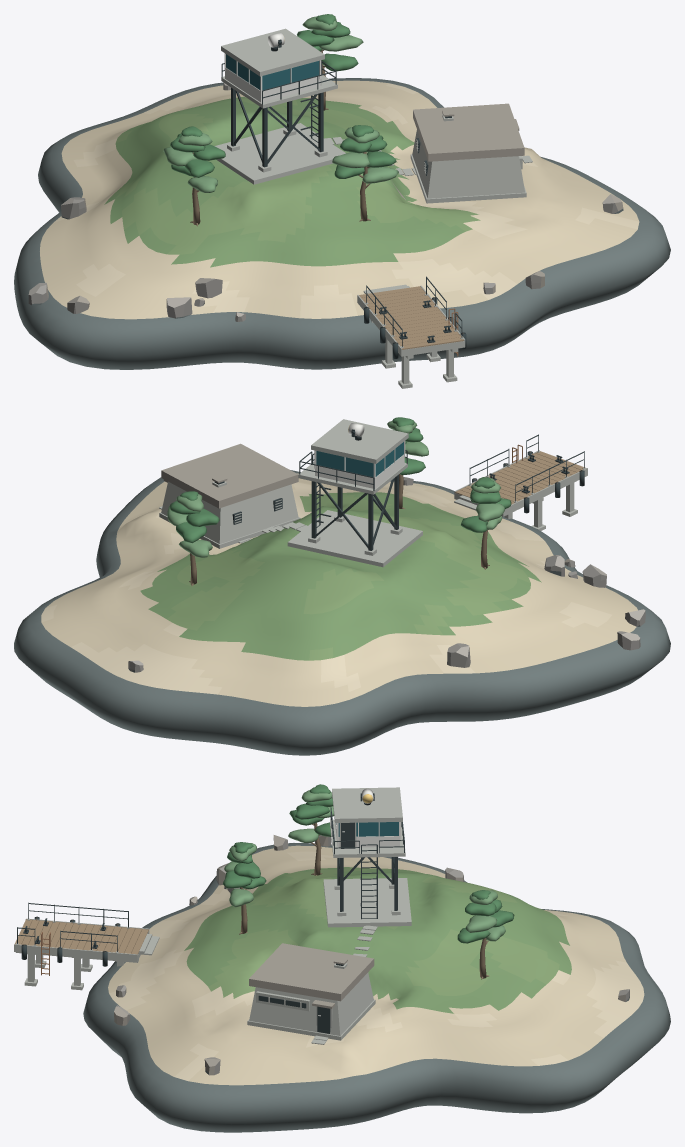
The model's file is ENV_CoastalOutpost.fbx.
3 views of the same model, one above another, from view 1: azimuth 30°, elevation 25°; view 2: azimuth 150°, elevation 25°; view 3: azimuth 270°, elevation 25° (orthographic). The views are drawn at different scales.
Visible parts, largest first — view 1: TerrainShell, ENV_WatchPost_0_Visual, ENV_CoastalBunker_1_Visual, ENV_Jetty_5_Visual, Decor_Visual.001, ENV_CoastalPine_2_Visual.001, ENV_CoastalPine_4_Visual, ENV_CoastalPine_3_Visual.001; view 2: TerrainShell, ENV_WatchPost_0_Visual, ENV_CoastalBunker_1_Visual, ENV_Jetty_5_Visual, Decor_Visual.001, ENV_CoastalPine_3_Visual.001, ENV_CoastalPine_4_Visual, ENV_CoastalPine_2_Visual.001; view 3: TerrainShell, ENV_WatchPost_0_Visual, ENV_CoastalBunker_1_Visual, ENV_Jetty_5_Visual, ENV_CoastalPine_3_Visual.001, Decor_Visual.001, ENV_CoastalPine_2_Visual.001, ENV_CoastalPine_4_Visual.
Part boxes in pixels (x1=…): TerrainShell: x1=14, y1=78, x2=670, y2=369; ENV_WatchPost_0_Visual: x1=214, y1=28, x2=345, y2=184; ENV_CoastalBunker_1_Visual: x1=410, y1=103, x2=526, y2=203; ENV_Jetty_5_Visual: x1=357, y1=276, x2=466, y2=388; Decor_Visual.001: x1=28, y1=83, x2=623, y2=321; ENV_CoastalPine_2_Visual.001: x1=332, y1=125, x2=398, y2=221; ENV_CoastalPine_4_Visual: x1=163, y1=126, x2=225, y2=226; ENV_CoastalPine_3_Visual.001: x1=297, y1=14, x2=363, y2=110; TerrainShell: x1=14, y1=470, x2=670, y2=755; ENV_WatchPost_0_Visual: x1=287, y1=419, x2=422, y2=567; ENV_CoastalBunker_1_Visual: x1=159, y1=443, x2=300, y2=548; ENV_Jetty_5_Visual: x1=454, y1=434, x2=587, y2=530; Decor_Visual.001: x1=128, y1=477, x2=645, y2=672; ENV_CoastalPine_3_Visual.001: x1=167, y1=491, x2=219, y2=585; ENV_CoastalPine_4_Visual: x1=461, y1=477, x2=511, y2=569; ENV_CoastalPine_2_Visual.001: x1=387, y1=417, x2=428, y2=508; TerrainShell: x1=83, y1=843, x2=670, y2=1132; ENV_WatchPost_0_Visual: x1=323, y1=787, x2=411, y2=927; ENV_CoastalBunker_1_Visual: x1=247, y1=943, x2=375, y2=1040; ENV_Jetty_5_Visual: x1=14, y1=902, x2=159, y2=990; ENV_CoastalPine_3_Visual.001: x1=457, y1=890, x2=514, y2=979; Decor_Visual.001: x1=114, y1=835, x2=629, y2=1075; ENV_CoastalPine_2_Visual.001: x1=223, y1=842, x2=266, y2=934; ENV_CoastalPine_4_Visual: x1=288, y1=784, x2=334, y2=875.
Bounding box in the file's own units: 2964 × 1127 × 3136.
